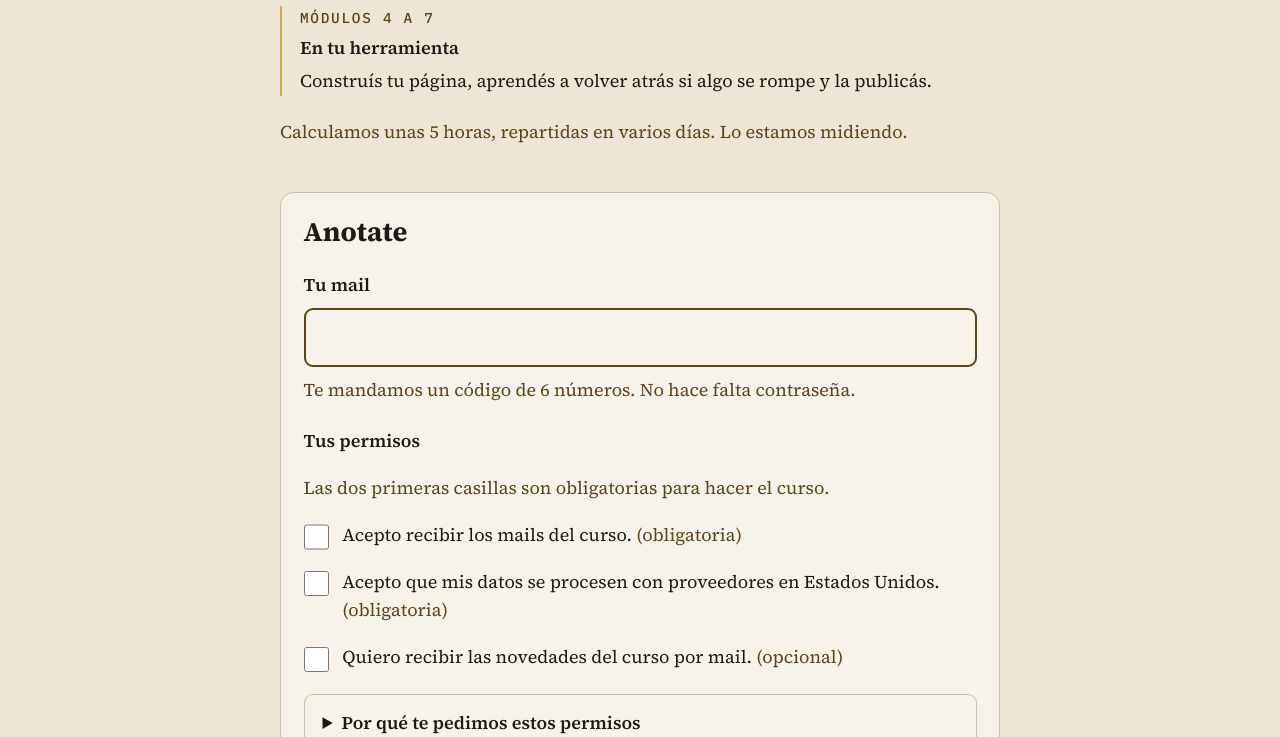
Test case: Landing › con un mail que no es válido lo avisa
(page scrolled)
Type "persona-sin-arroba" into the field labelled "Tu mail" at (640, 338), box [304,308,976,367]
(page scrolled)
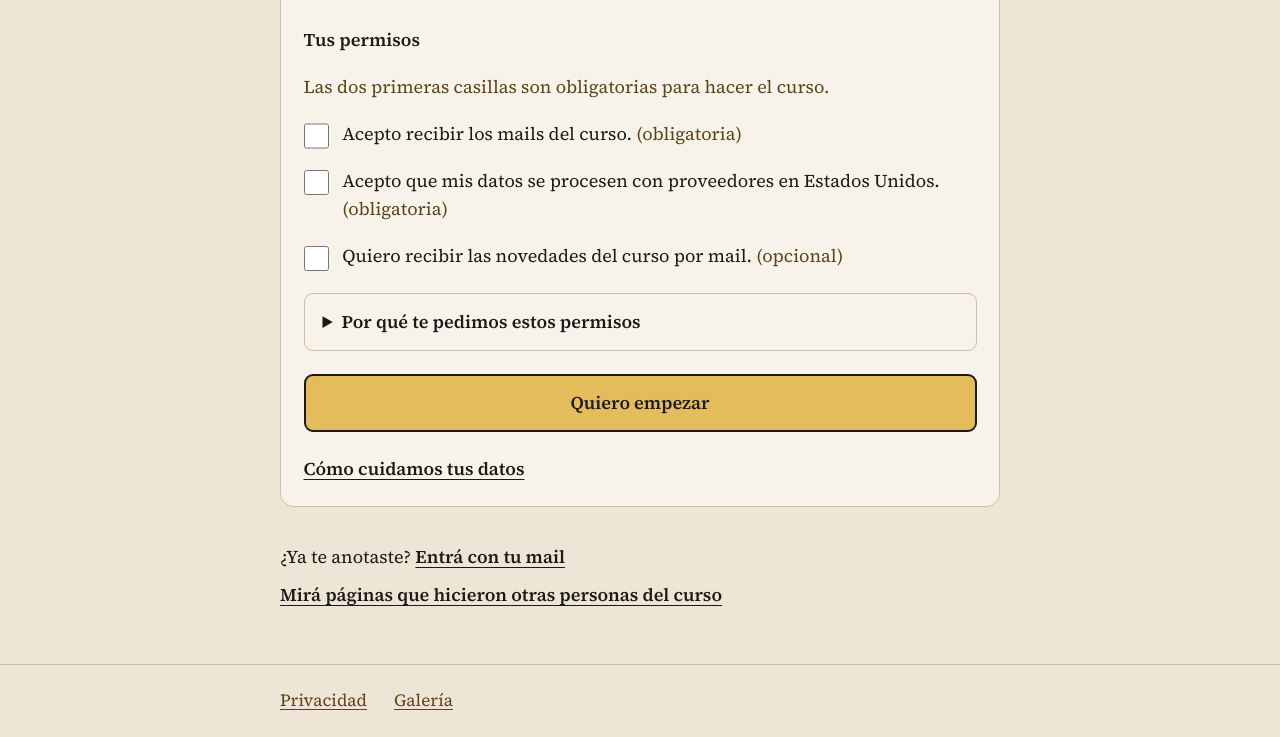
Click the button "Quiero empezar" at (640, 403), box [304,374,976,432]
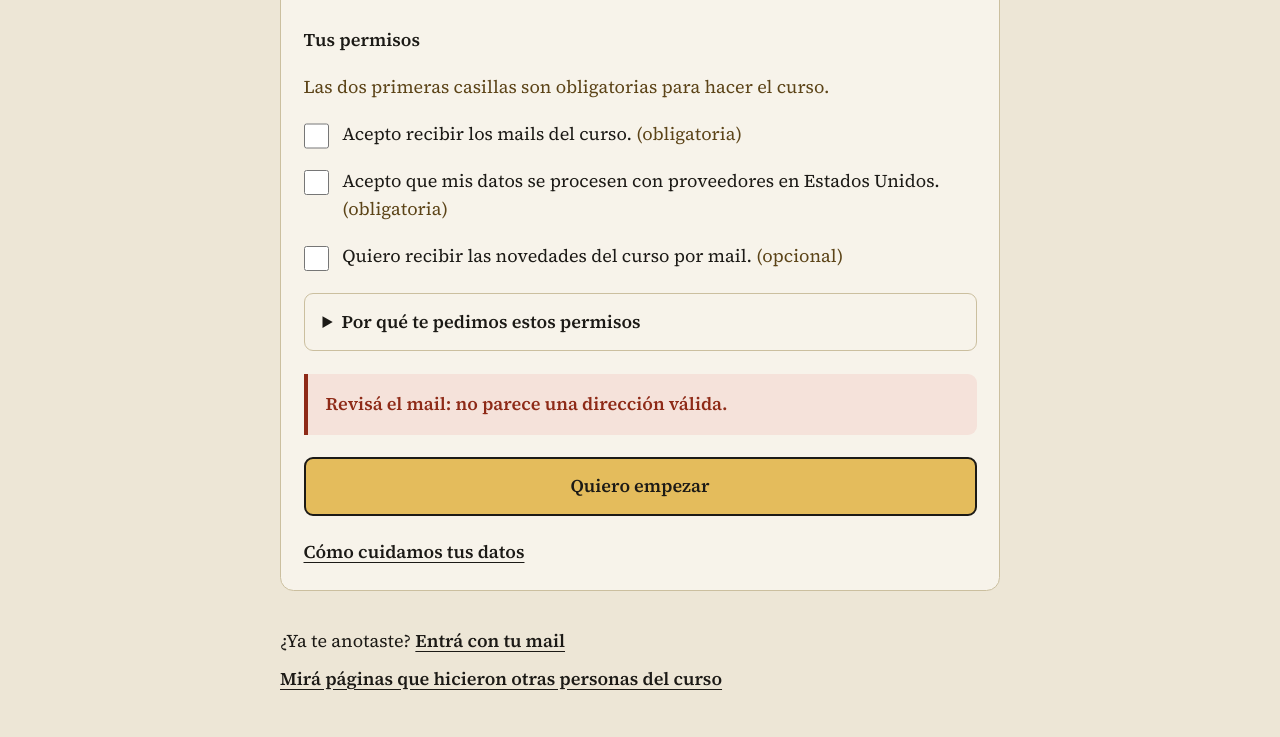
Result: the text "Revisá el mail: no parece una dirección válida." is shown at [326,391,728,416]
